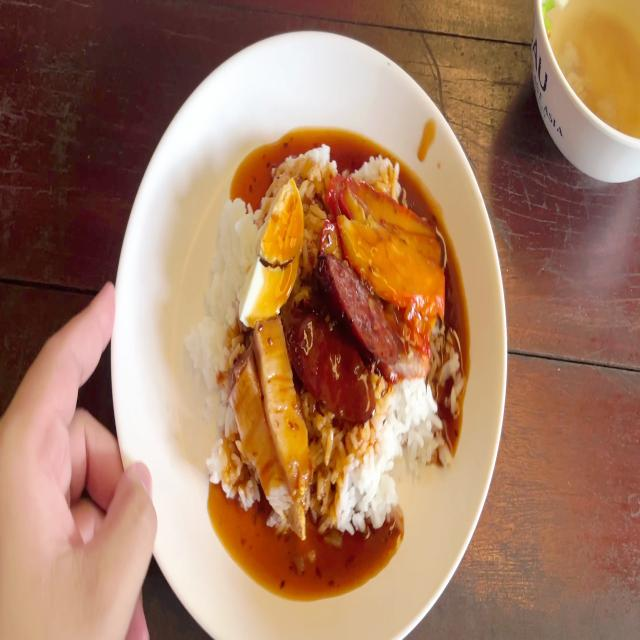boiled_egg: (234, 184, 303, 322)
chainese_sausage: (292, 262, 389, 400)
crispy_pork: (237, 329, 307, 516)
red_pork: (331, 164, 445, 305)
red_pork_and_crispy_pork: (195, 153, 448, 542)
rice: (196, 196, 252, 465), (332, 421, 447, 533), (386, 380, 435, 476)
